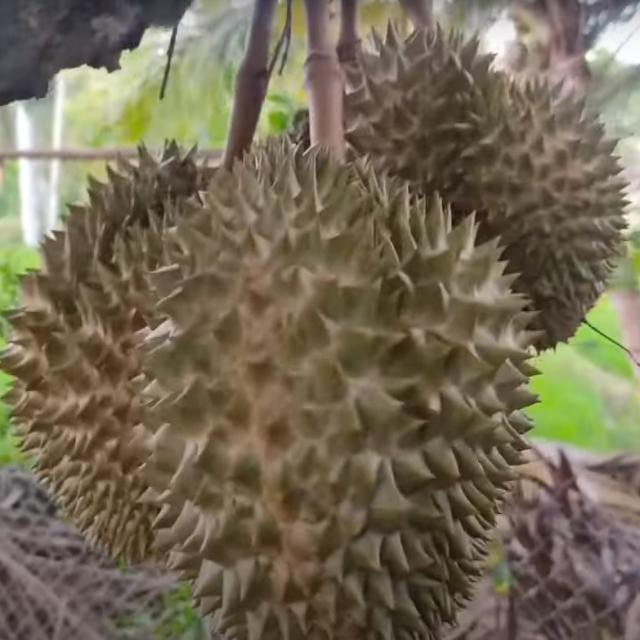mature: (126, 131, 542, 640), (276, 12, 637, 356), (3, 135, 287, 563)
